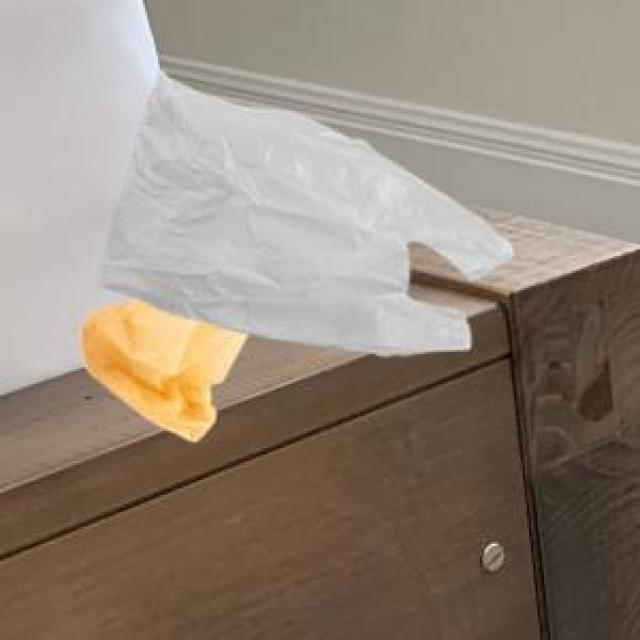waste: (104, 74, 509, 354), (85, 302, 244, 439)
